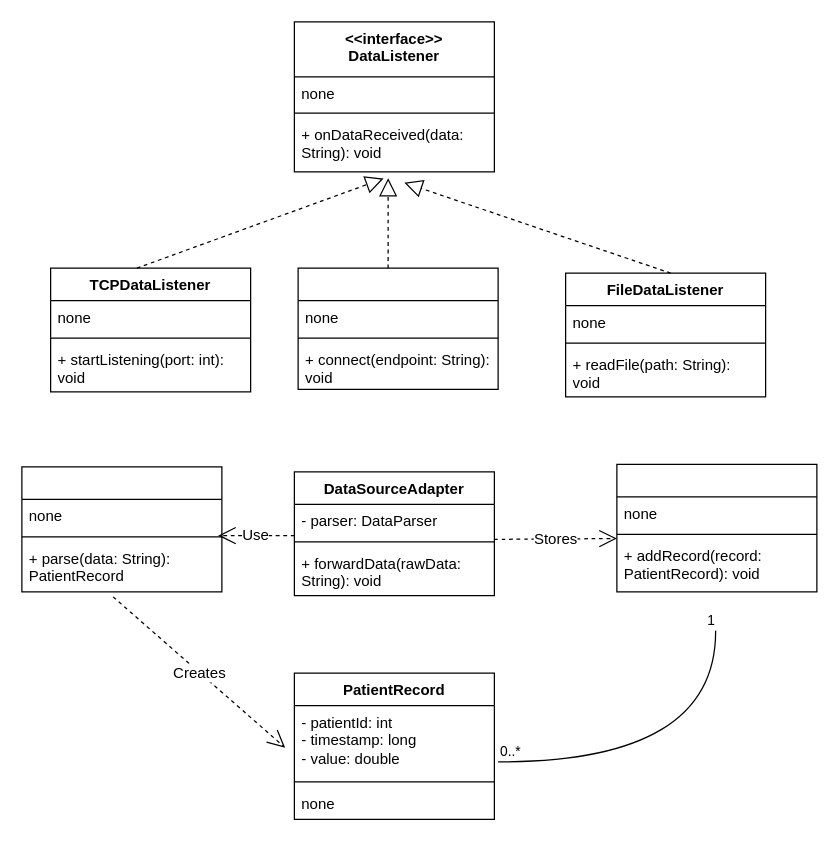
This 839x845 diagram has some shape labels left out. Each missing label, with the box of its shape:
DataParser: (21, 466, 222, 592)
DataStorage: (616, 463, 817, 592)
WebSocketDataListener: (297, 267, 498, 389)
